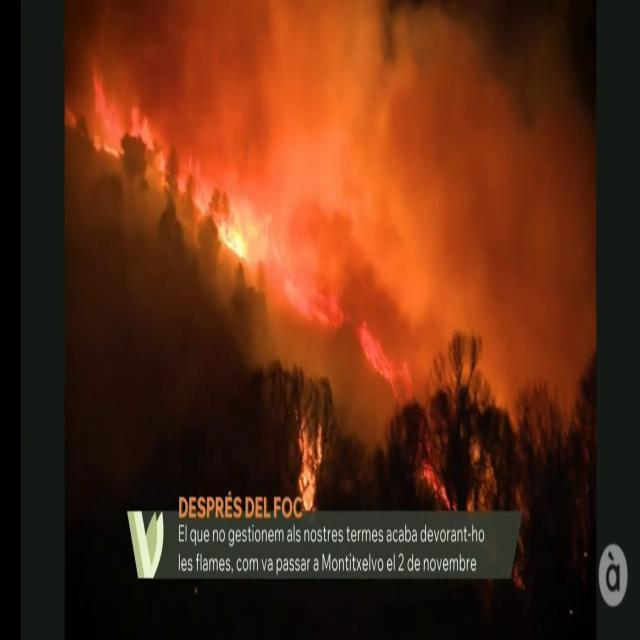Fire: (195, 144, 298, 328), (288, 406, 326, 520)
Smoke: (68, 1, 606, 419)
